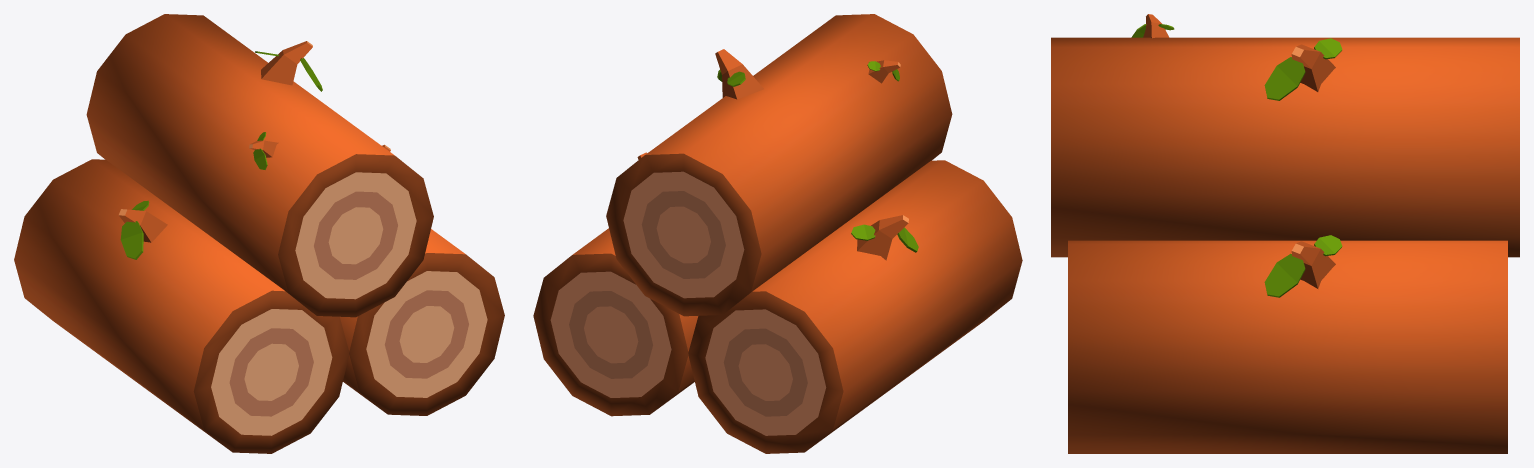
The model's file is Wood.fbx.
The picture shows the model from 3 angles, left to right: view 1: azimuth 30°, elevation 25°; view 2: azimuth 150°, elevation 25°; view 3: azimuth 270°, elevation 25°; orthographic projection. The views are drawn at different scales.
Visible parts, largest first — view 1: Cylinder.001; view 2: Cylinder.001; view 3: Cylinder.001.
Boxes of the visible parts, box(x1,y1,x2,y2) form: Cylinder.001: box(14, 14, 504, 453); Cylinder.001: box(533, 14, 1022, 453); Cylinder.001: box(1051, 14, 1519, 453).
Bounding box in the file's own units: 131 × 125 × 139.
